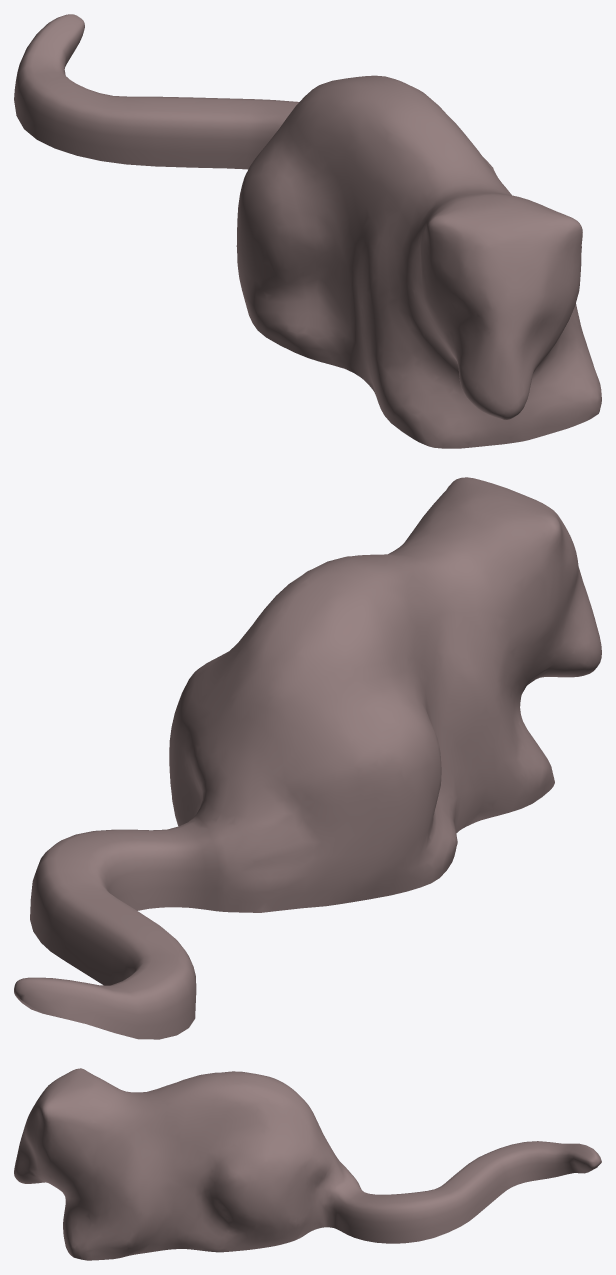
Rendered from rat.glb.
3 renders of one model, top to bottom at view 1: azimuth 30°, elevation 25°; view 2: azimuth 150°, elevation 25°; view 3: azimuth 270°, elevation 25°, orthographic. The views are drawn at different scales.
Parts seen in each view (by area): view 1: rat lego; view 2: rat lego; view 3: rat lego.
Part boxes in pixels (box(x1,y1,x2,y2)): rat lego: box(14, 14, 601, 448); rat lego: box(14, 477, 601, 1039); rat lego: box(14, 1068, 601, 1260).
Bounding box in the file's own units: 0.4312 × 0.4525 × 1.55.
